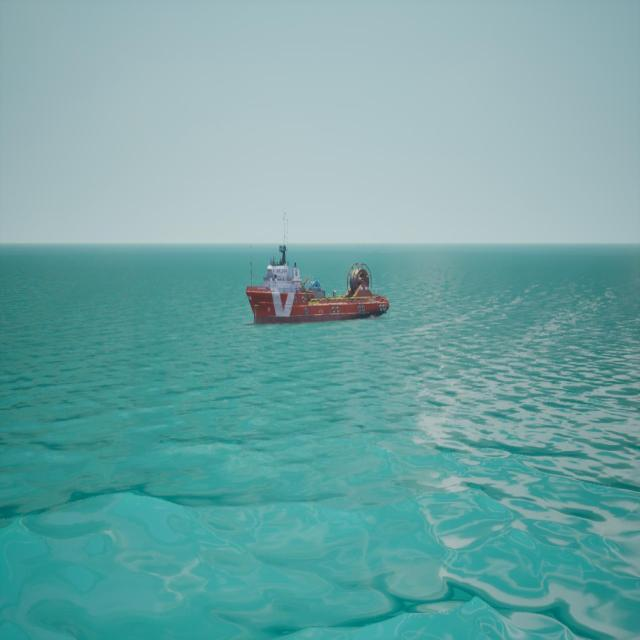tug boat: (246, 223, 392, 331)
